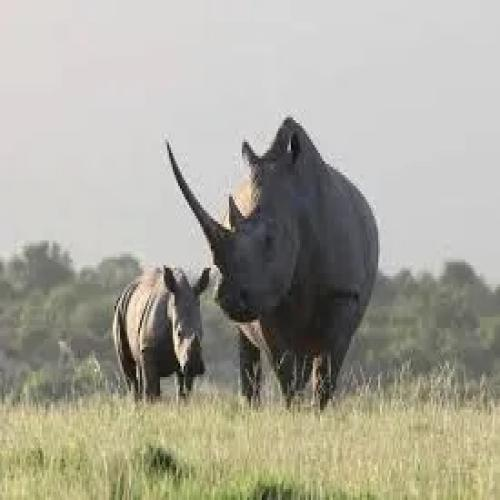rhino-endangered: (163, 113, 386, 420), (111, 254, 216, 407)
